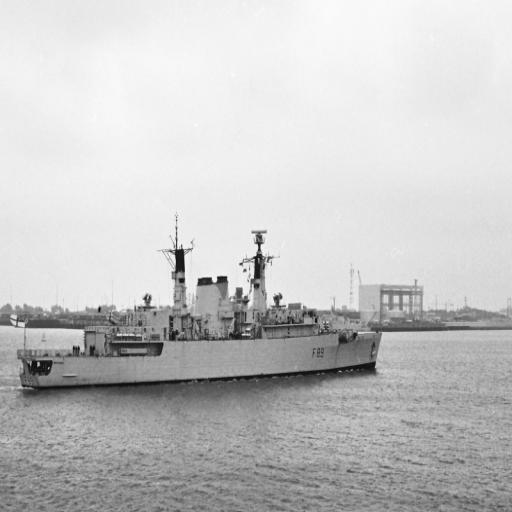Fragata: (18, 212, 384, 393)
